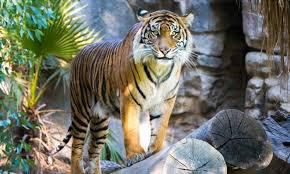Tiger: (50, 9, 193, 173)
